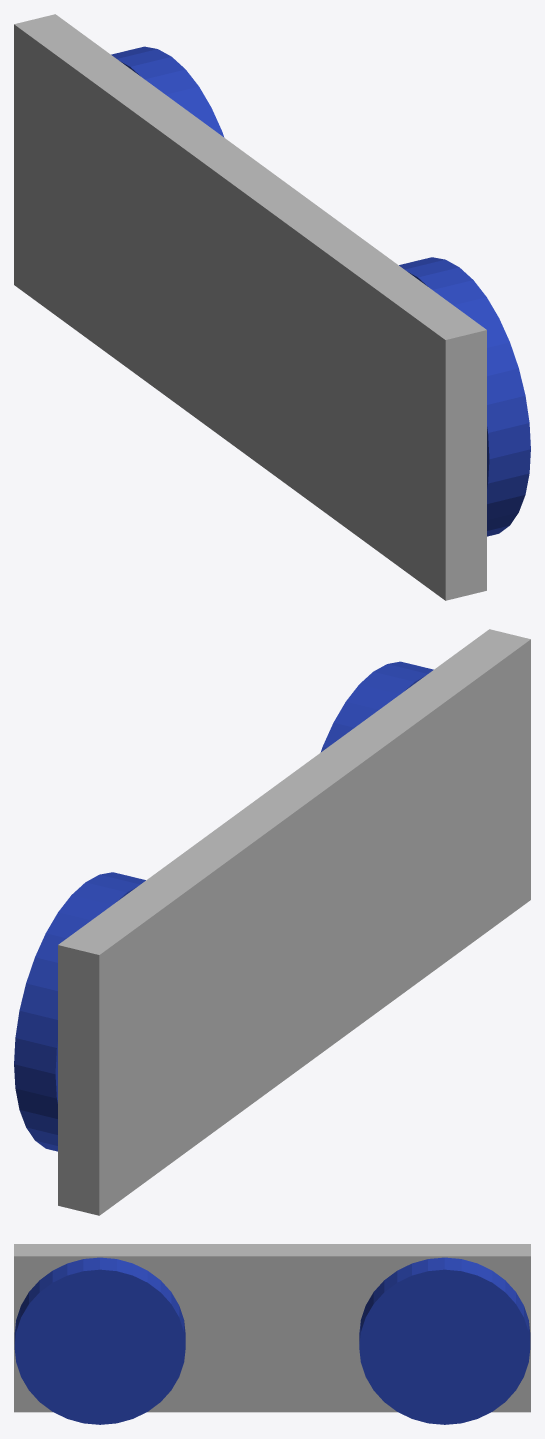
Rendered from Part7_FrontPanel.fbx.
The picture shows the model from 3 angles, top to bottom: view 1: azimuth 30°, elevation 25°; view 2: azimuth 150°, elevation 25°; view 3: azimuth 270°, elevation 25°; orthographic projection. The views are drawn at different scales.
Parts seen in each view (by area): view 1: FrontWall, DiskLeftM, DiskRightM; view 2: FrontWall, DiskRightM, DiskLeftM; view 3: FrontWall, DiskLeftM, DiskRightM.
Part boxes in pixels (bbox=[...]): FrontWall: bbox=[14, 14, 486, 600]; DiskLeftM: bbox=[399, 257, 530, 536]; DiskRightM: bbox=[111, 46, 224, 137]; FrontWall: bbox=[58, 629, 530, 1215]; DiskRightM: bbox=[14, 872, 145, 1151]; DiskLeftM: bbox=[320, 661, 433, 752]; FrontWall: bbox=[14, 1244, 530, 1412]; DiskLeftM: bbox=[14, 1257, 185, 1424]; DiskRightM: bbox=[359, 1257, 530, 1424].
Bounding box in the file's own units: 207 × 600 × 1800.
